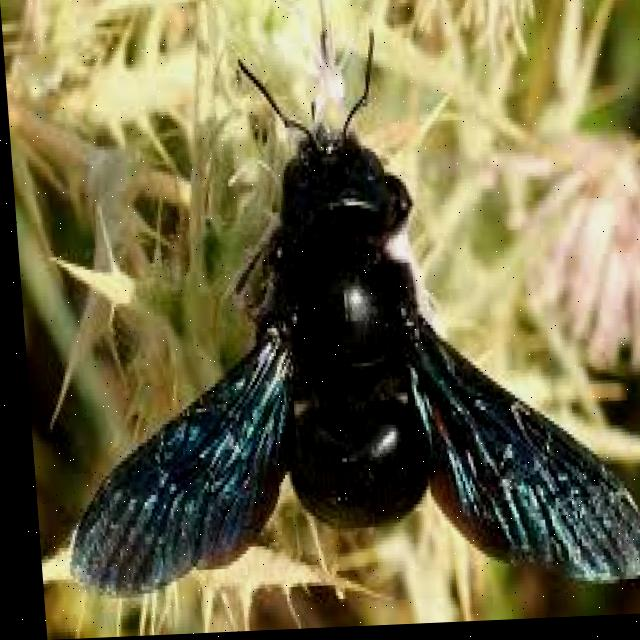Xylocopa: (6, 9, 640, 639)
